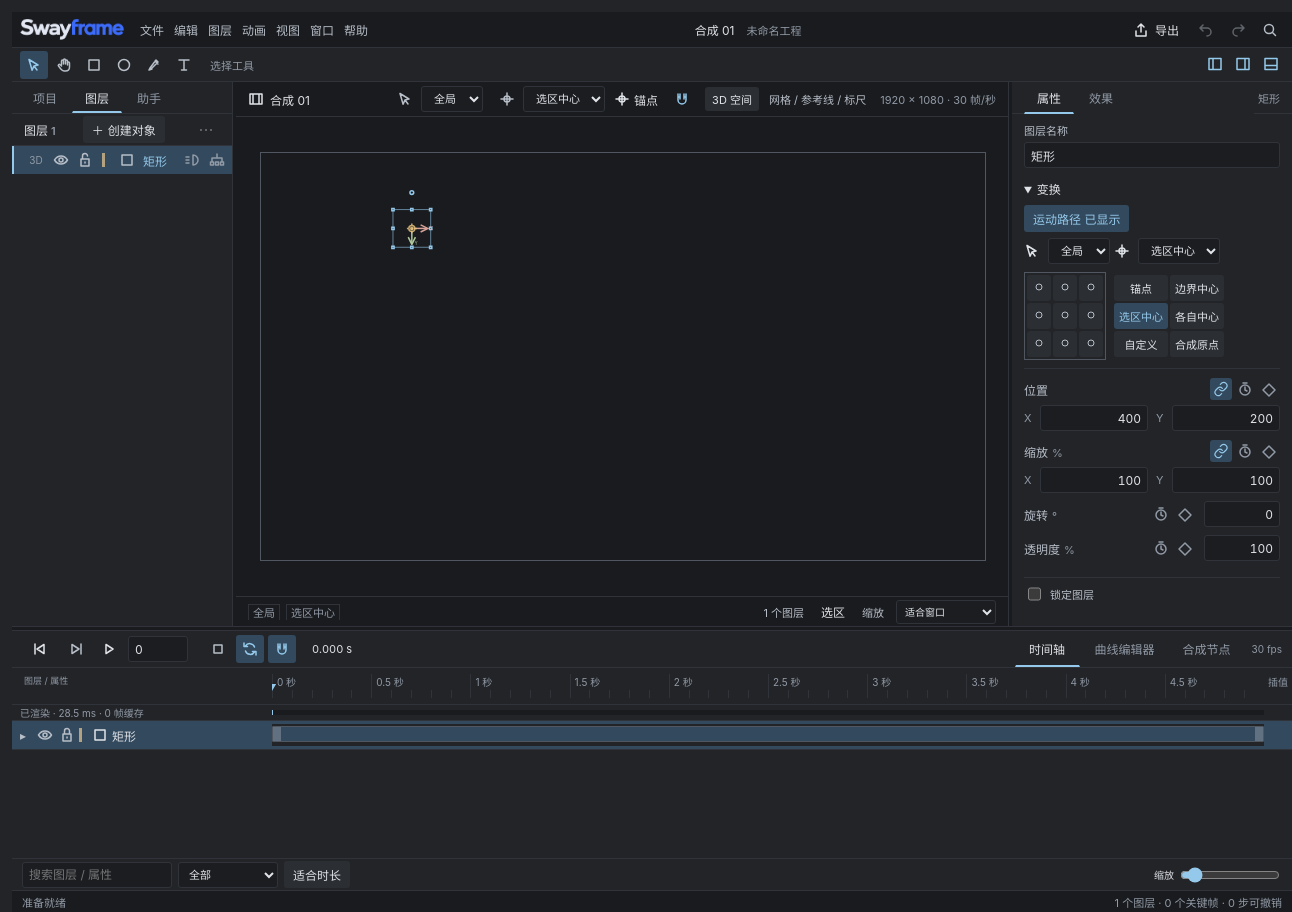
Scenario: rotation accumulates through 180 and 360 degrees, then one Undo restores all
The width and height of the screenshot is (1292, 912).
Press the mouse on the drawing with test id "canvas" at point(623, 357), box [261,153,985,560]
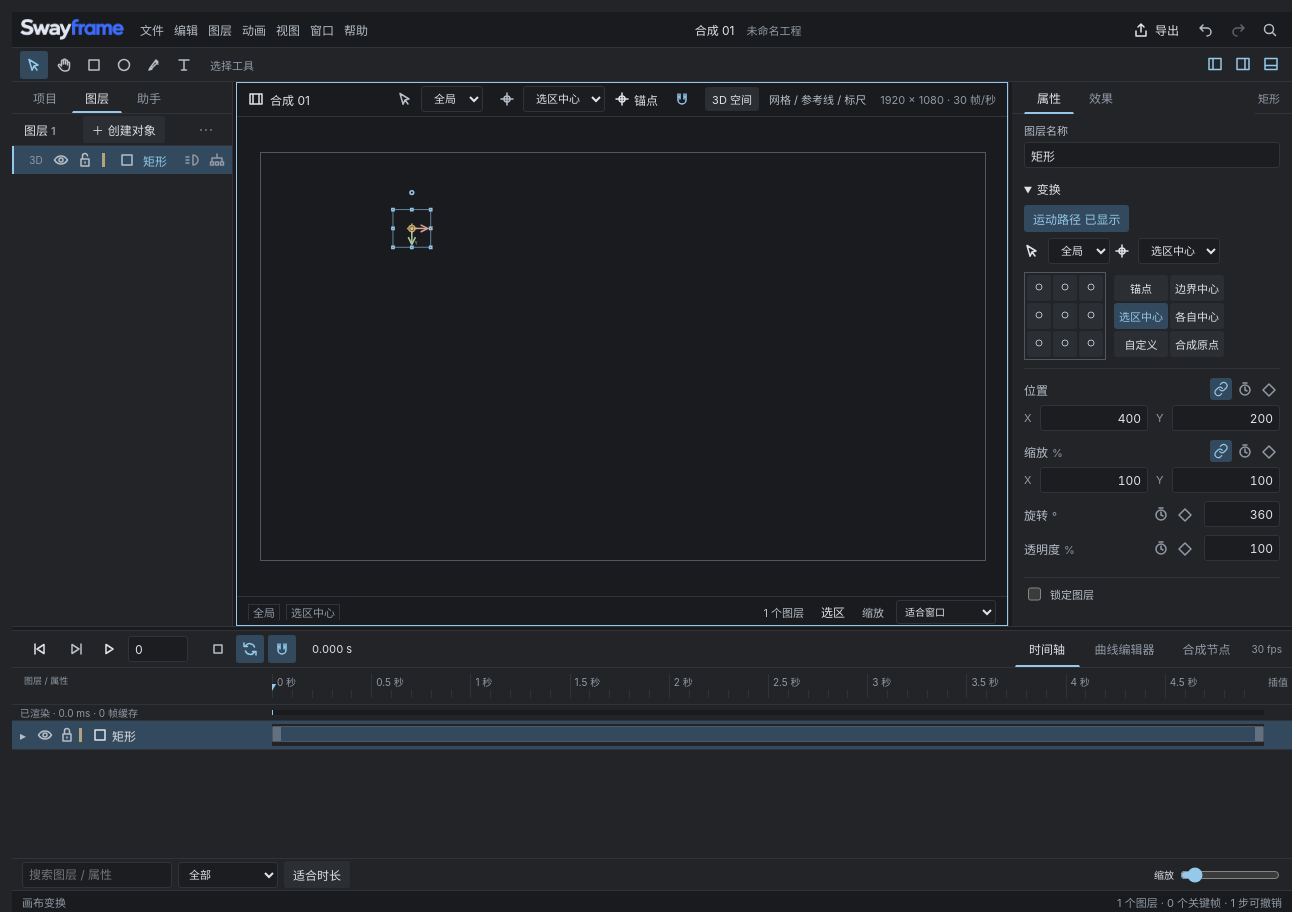
Expected: the number field named "旋转（°）" holds "360", [1204,501,1280,527]
